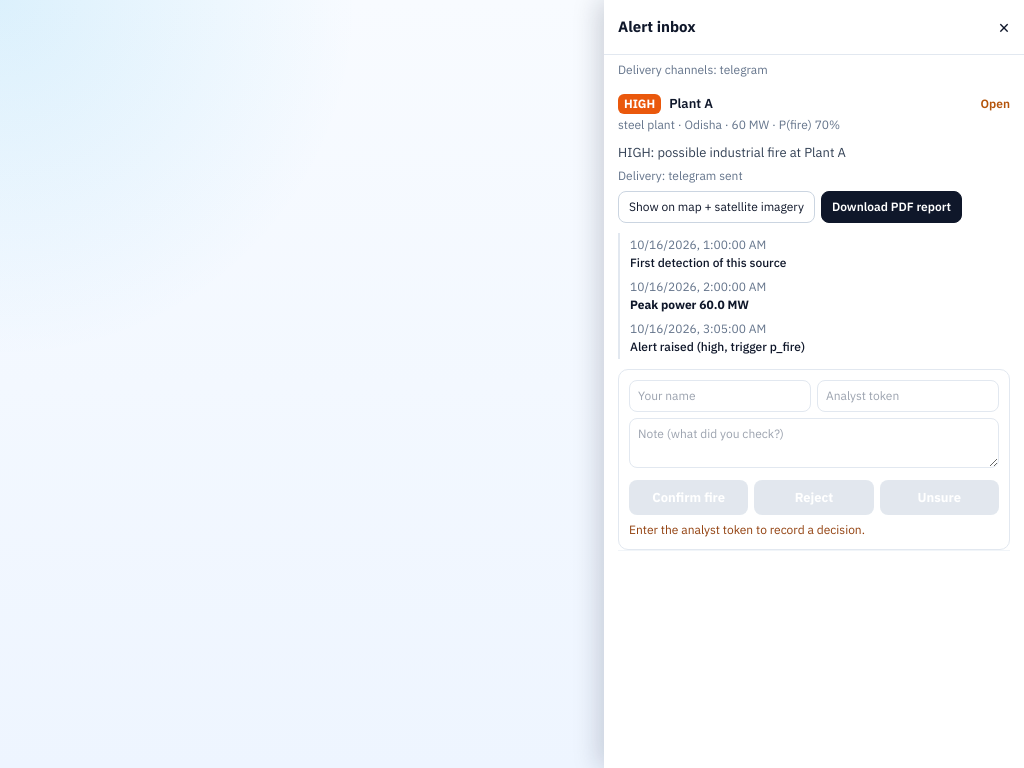
AlertInbox › keeps the decision buttons disabled until a token is entered, then posts and reports the label
The width and height of the screenshot is (1024, 768).
Expected: the button "Confirm fire" is disabled, [629,480,748,515]
Expected: the text with test id "decide-hint" shows "token", [629,522,865,537]
In the password field labelled "Analyst token": (908, 396) [817,380,999,412], type "tok"
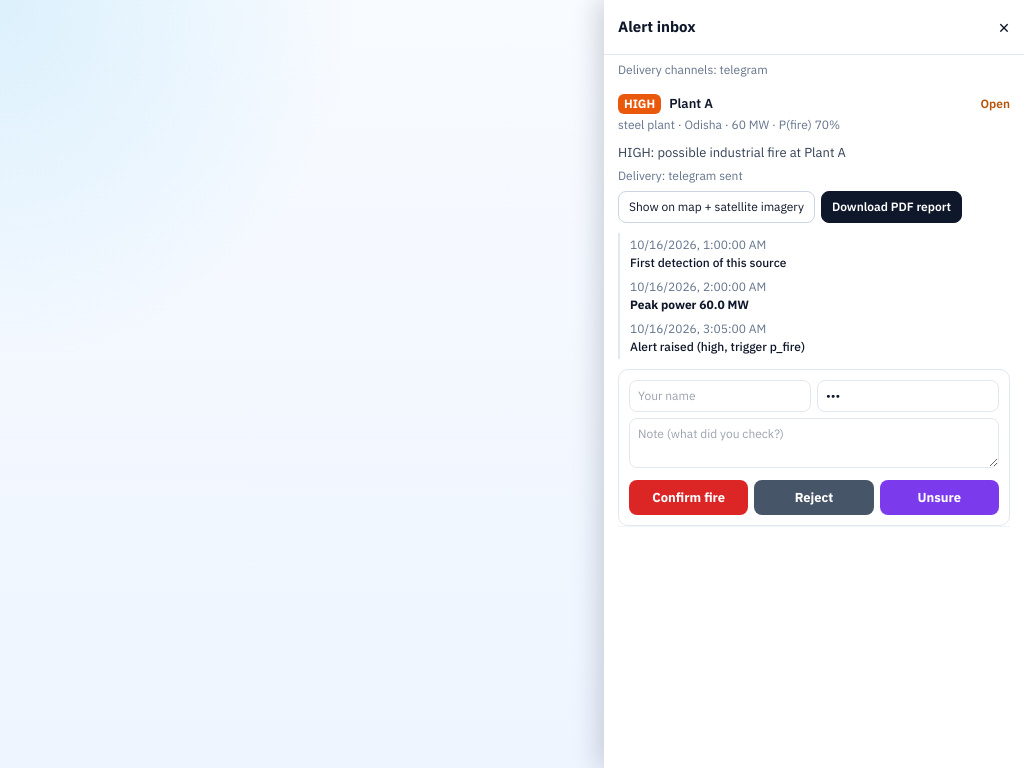
In the field named "Analyst name": (720, 396) [629,380,811,412], type "asha"
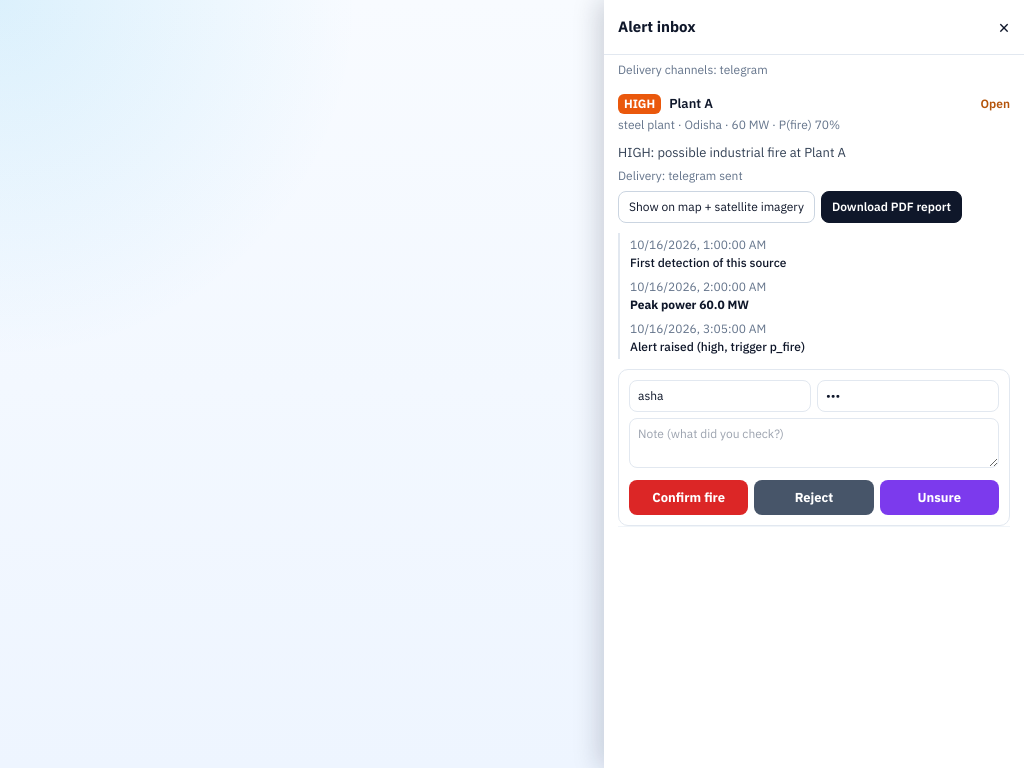
In the text box labelled "Note": (814, 442) [629,418,999,468], type "smoke plume visible"
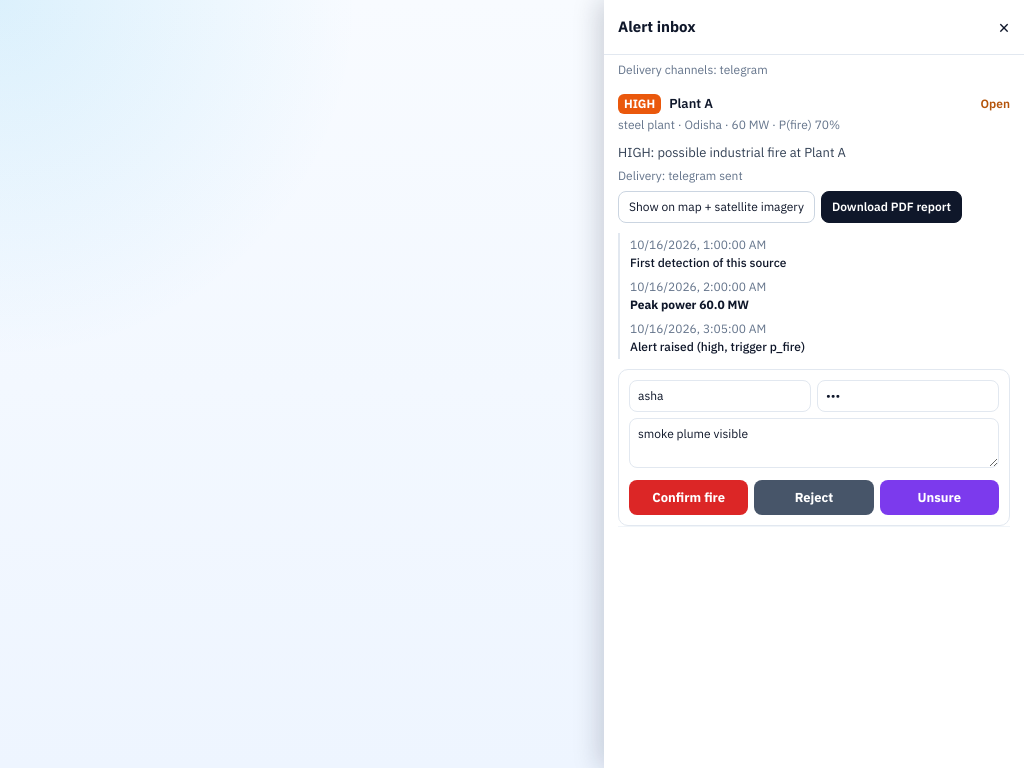
Expected: the button "Confirm fire" is enabled
Click the button "Confirm fire": click(689, 497) [629,480,748,515]
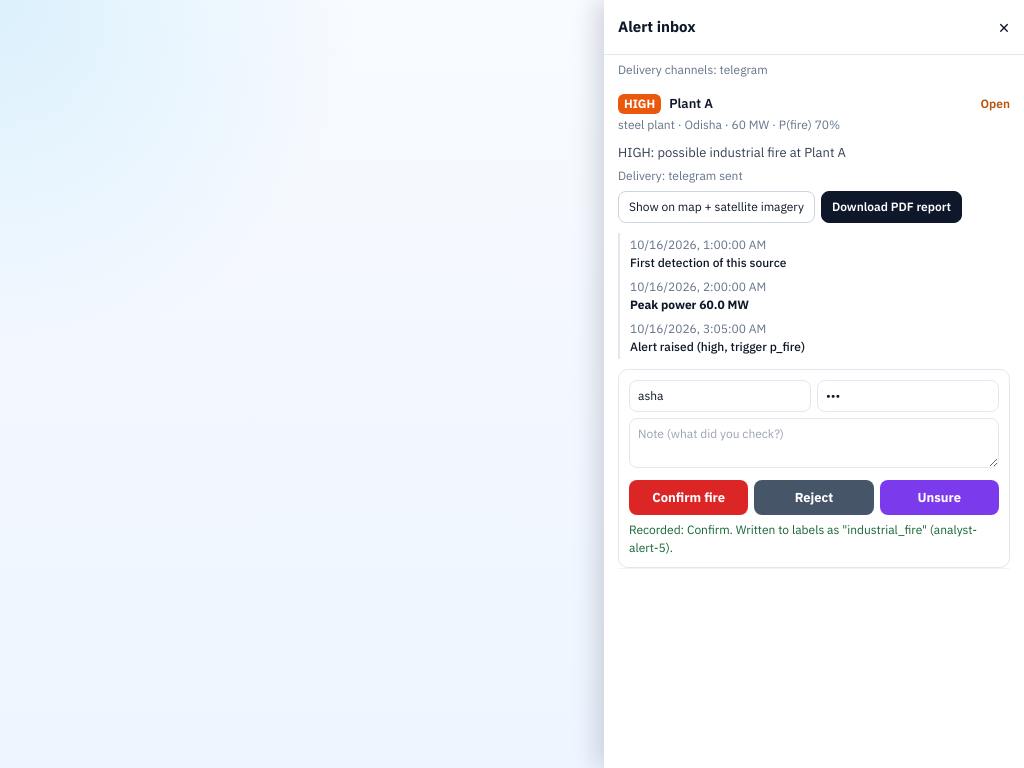
Expected: the text "Recorded: Confirm. Written to labels as \"industrial_fire\" (analyst-alert-5)." is shown, [629,521,999,557]
